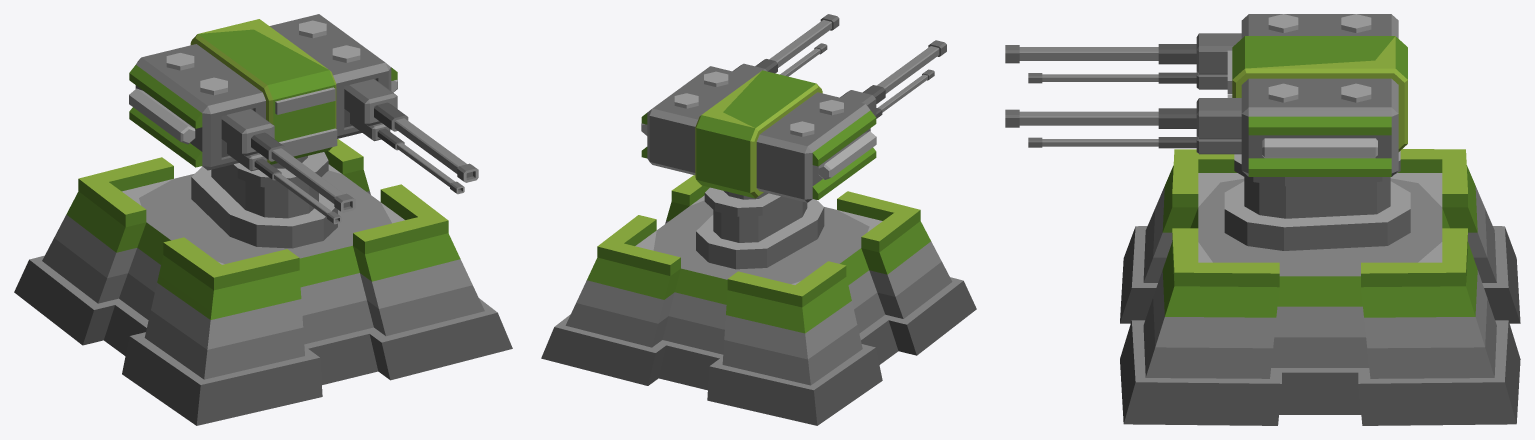
The model's file is tower_rapid_green_2.fbx.
3 renders of one model, left to right at view 1: azimuth 30°, elevation 25°; view 2: azimuth 150°, elevation 25°; view 3: azimuth 270°, elevation 25°, orthographic. The views are drawn at different scales.
Visible parts, largest first — view 1: tower_rapid_green_2, top_rapid_green_2; view 2: tower_rapid_green_2, top_rapid_green_2; view 3: tower_rapid_green_2, top_rapid_green_2.
Part boxes in pixels (x1,y1,x2,y2): tower_rapid_green_2: (14,139,512,425); top_rapid_green_2: (129,14,478,248); tower_rapid_green_2: (541,175,976,425); top_rapid_green_2: (641,14,946,269); tower_rapid_green_2: (1120,149,1520,425); top_rapid_green_2: (1005,14,1410,250).
Bounding box in the file's own units: 171 × 136 × 219.
